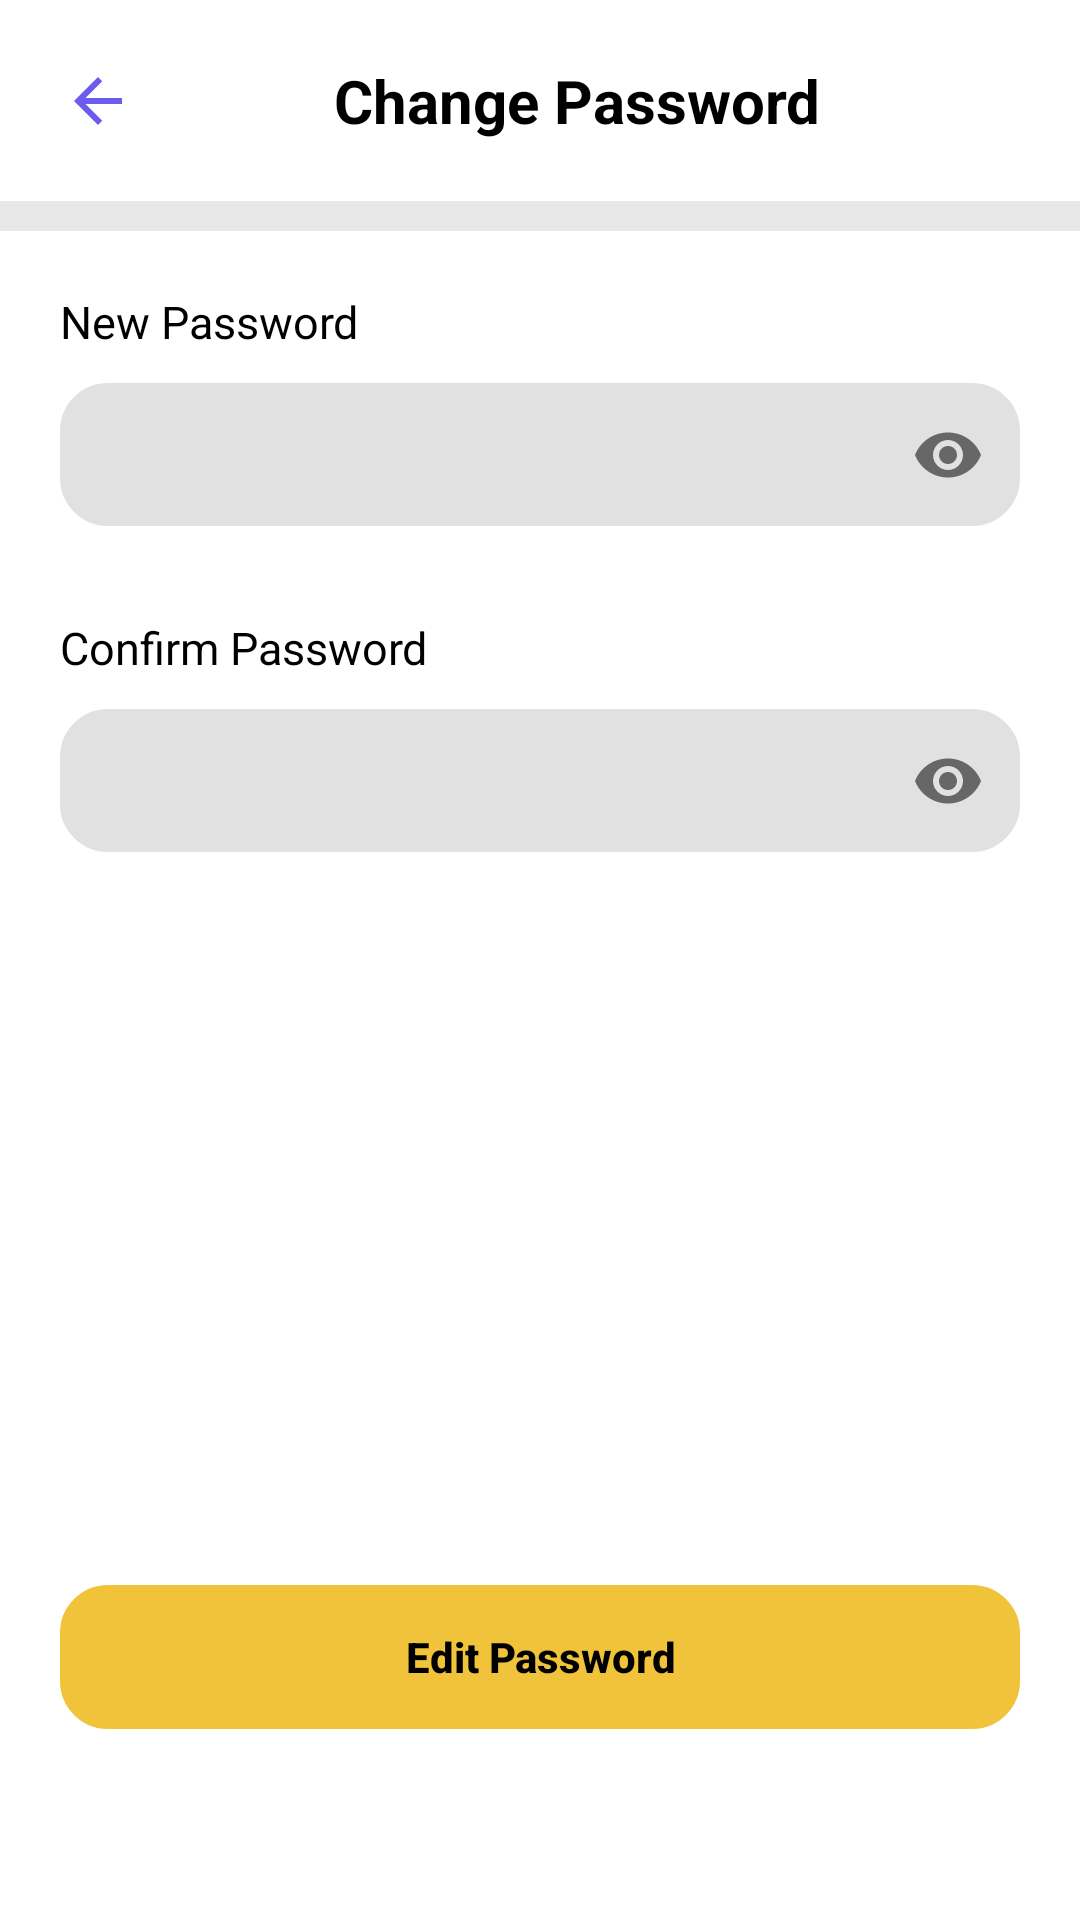

Locate icon controls on the screen. Image size 1080w x 1920h, boxes as {"x1": x1, "y1": y1, "x2": x2, "y2": y2}.
Button Back: {"x1": 74, "y1": 77, "x2": 122, "y2": 125}
